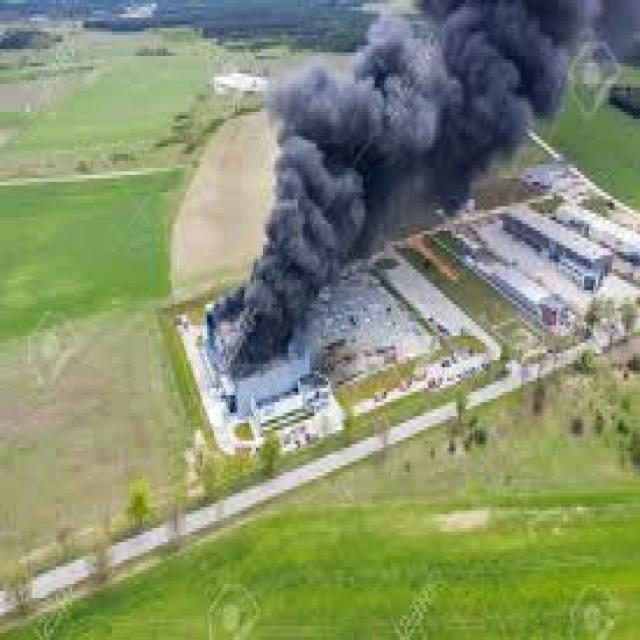Smoke: (266, 0, 469, 213), (220, 218, 397, 404), (468, 0, 639, 171)
